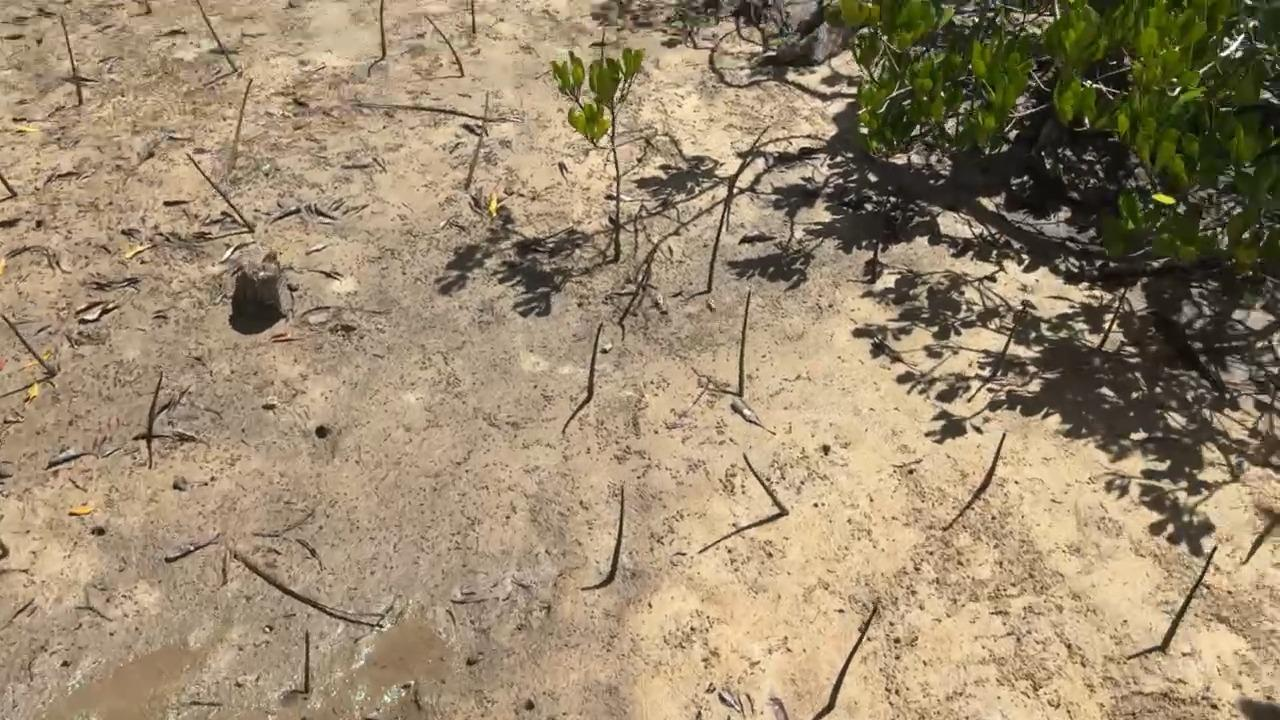Tree: (549, 44, 645, 265), (1160, 545, 1219, 651), (184, 151, 255, 232), (827, 606, 874, 711), (707, 170, 741, 292), (0, 314, 54, 373), (195, 0, 237, 72), (742, 452, 789, 516), (616, 251, 656, 326), (464, 89, 493, 189), (730, 124, 772, 192), (990, 305, 1028, 378), (424, 15, 464, 78), (227, 78, 255, 167), (60, 13, 84, 104), (1239, 511, 1280, 563), (1095, 286, 1126, 349), (738, 289, 753, 397), (609, 485, 626, 578), (980, 432, 1005, 489), (586, 322, 604, 399), (146, 370, 163, 439), (379, 0, 388, 58), (303, 630, 311, 694), (0, 172, 18, 196), (471, 0, 476, 34)
